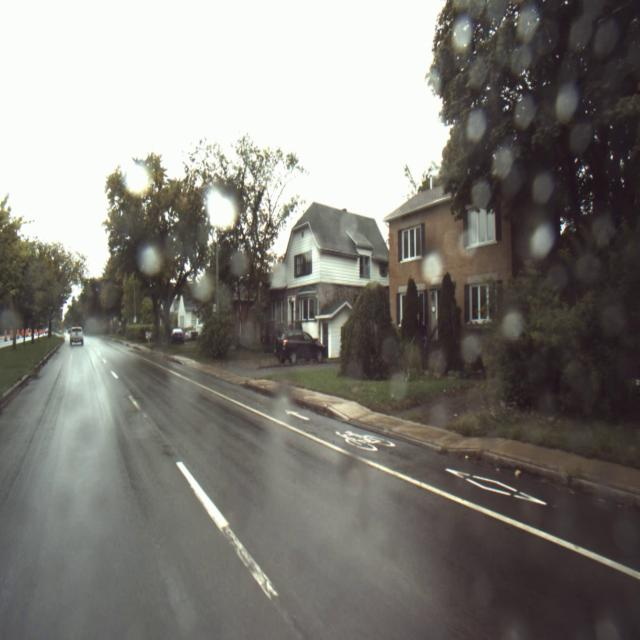car: (274, 329, 324, 366), (70, 326, 84, 346)
